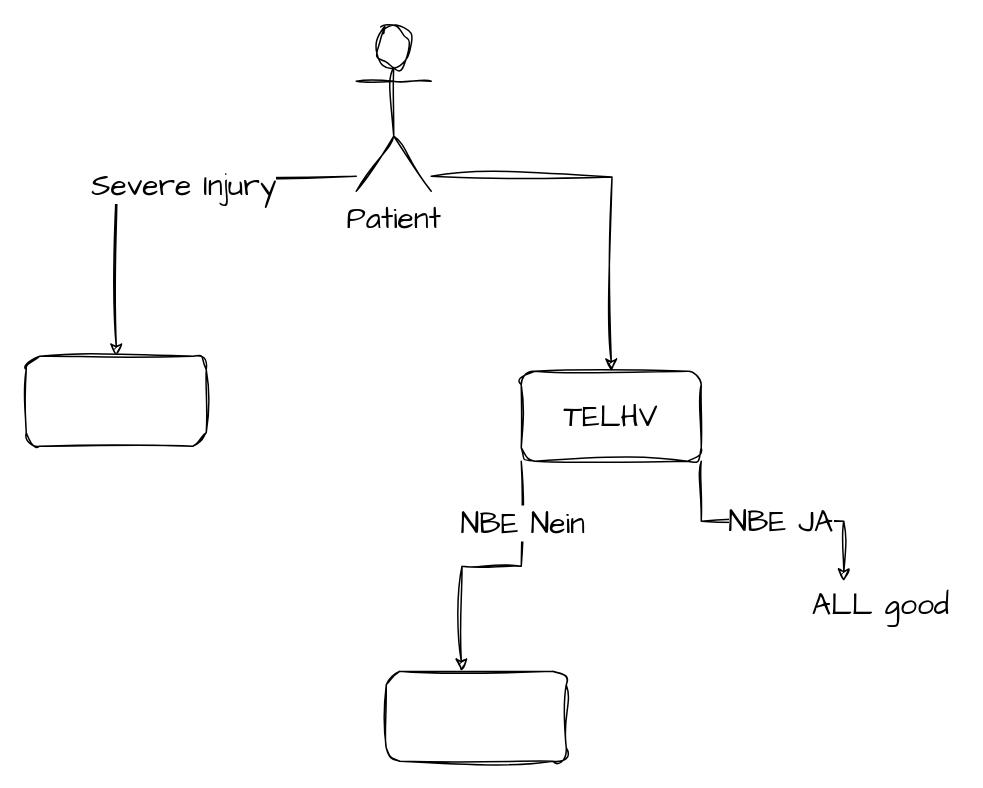
The diagram is 983 pixels wide and 788 high, and some of its shapes have lost their labels. Here are the shapes that lost their labels. From the top down, the centre of each, then its label:
At (115,400): "an other process".
At (475,715): "Further Examination".
